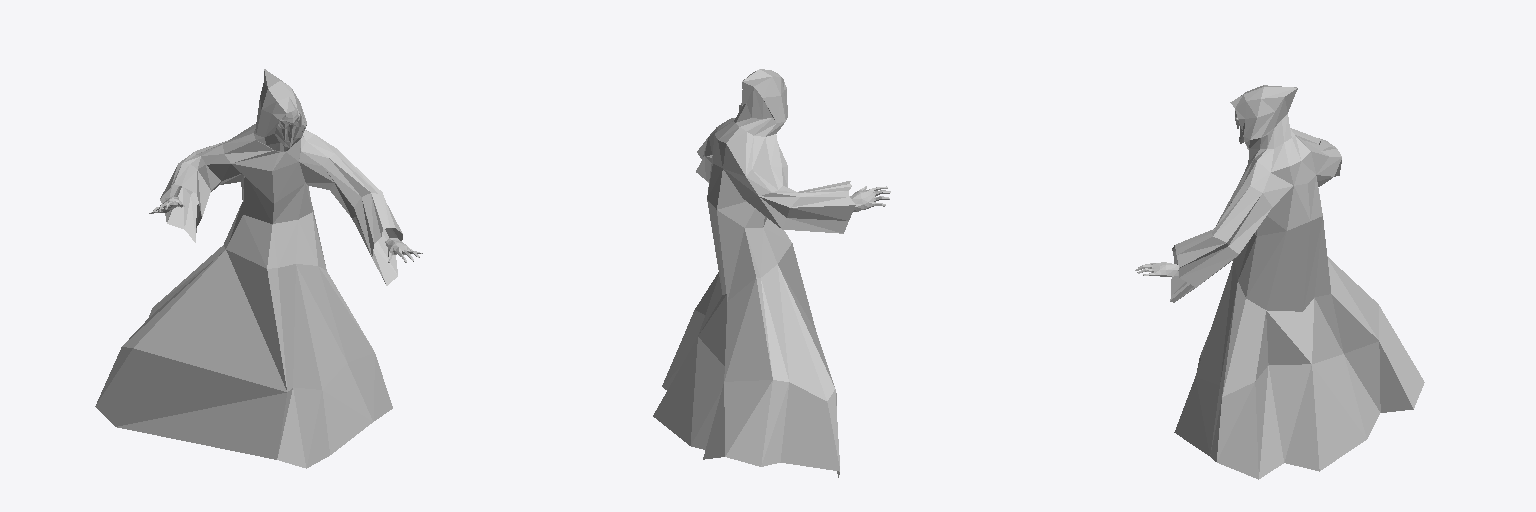
File: ReaperAttack(52).obj
The picture shows the model from 3 angles: view 1: azimuth 30°, elevation 25°; view 2: azimuth 150°, elevation 25°; view 3: azimuth 270°, elevation 25°; orthographic projection.
Visible parts, largest first — view 1: Plane003; view 2: Plane003; view 3: Plane003.
Boxes of the visible parts, x1=… form: Plane003: x1=95, y1=69, x2=422, y2=468; Plane003: x1=653, y1=69, x2=890, y2=477; Plane003: x1=1135, y1=85, x2=1424, y2=479.
Size of the model in its own units: 144 by 209 by 155.